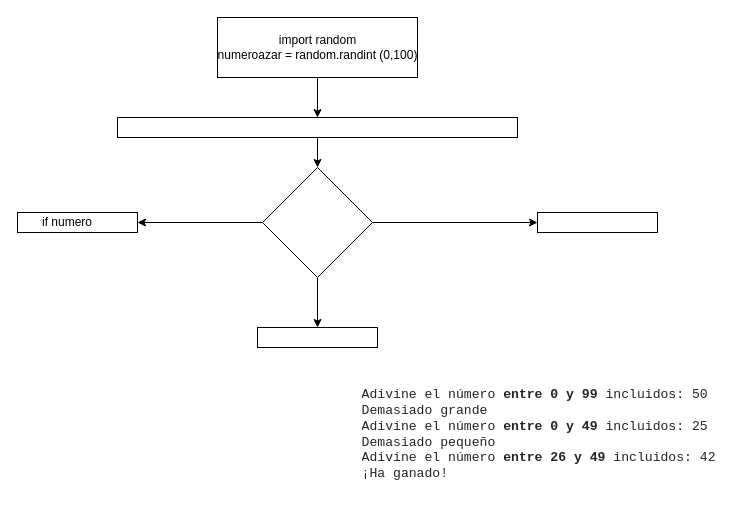
This 755x515 diagram has some shape labels left out. The centre of each missing label's shape, as x and y in pixels:
Condición: point 317,222
numero = input(int("Introduzca un número:")): point 317,127
